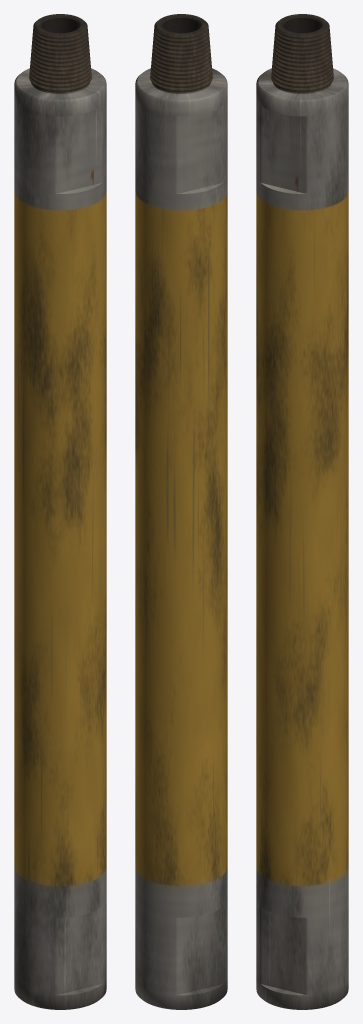
The model's file is SM_Tige_5_1_2po_5pi_Jaune.glb.
3 views of the same model, side by side, from view 1: azimuth 30°, elevation 25°; view 2: azimuth 210°, elevation 25°; view 3: azimuth 330°, elevation 25° (orthographic).
Parts seen in each view (by area): view 1: Tige_5_1_2po_5pi_Jaune; view 2: Tige_5_1_2po_5pi_Jaune; view 3: Tige_5_1_2po_5pi_Jaune.
Part boxes in pixels (<box>): Tige_5_1_2po_5pi_Jaune: <box>14,14,106,1009</box>; Tige_5_1_2po_5pi_Jaune: <box>135,14,227,1009</box>; Tige_5_1_2po_5pi_Jaune: <box>256,14,348,1009</box>.
Bounding box in the file's own units: 0.1397 × 1.62 × 0.1397.
1 material, 1 textured.
